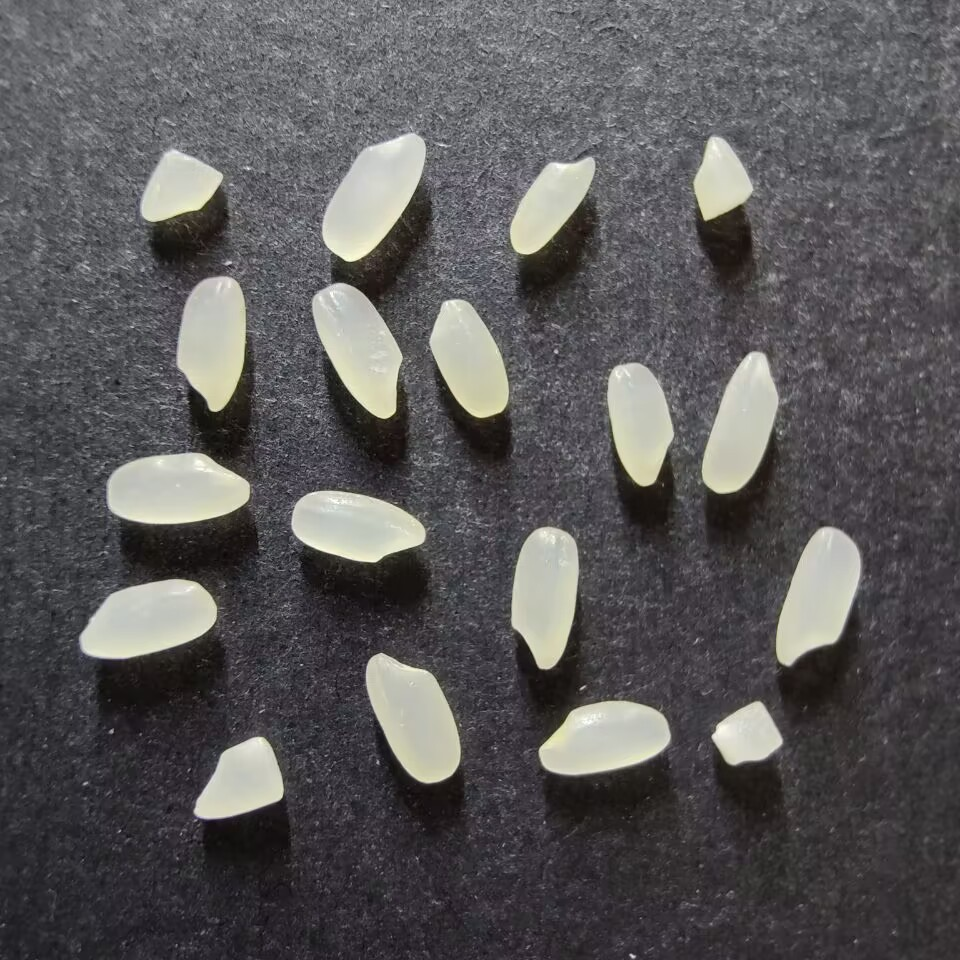broken: (193, 736, 283, 820), (139, 150, 223, 222), (692, 134, 753, 222), (711, 700, 783, 765)
rice: (321, 132, 426, 262), (364, 652, 462, 783), (311, 282, 402, 419), (775, 525, 861, 667), (700, 350, 779, 494), (78, 578, 216, 659), (106, 452, 250, 524), (538, 700, 670, 776), (290, 489, 425, 563), (510, 526, 579, 670), (175, 275, 246, 412), (428, 299, 509, 418), (508, 155, 596, 254), (607, 362, 673, 487)
